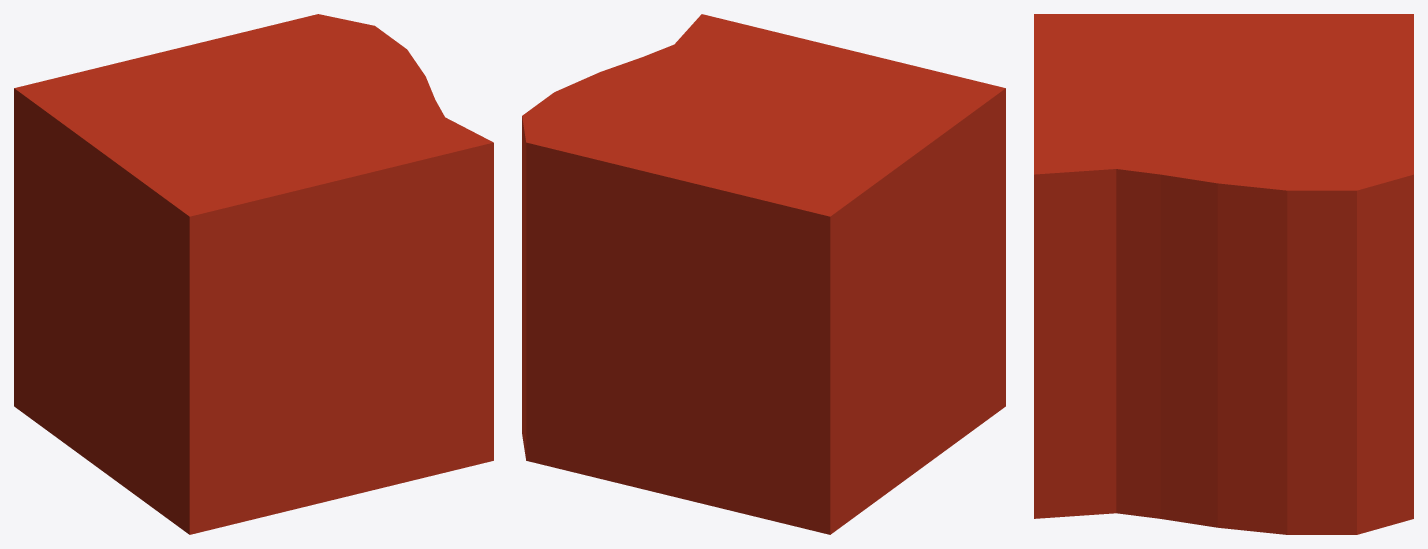
The model's file is rock_side_1.glb.
3 renders of one model, left to right at view 1: azimuth 30°, elevation 25°; view 2: azimuth 150°, elevation 25°; view 3: azimuth 270°, elevation 25°, orthographic. The views are drawn at different scales.
Parts seen in each view (by area): view 1: rock_side_1; view 2: rock_side_1; view 3: rock_side_1.
Boxes of the visible parts, x1,y1,x2,y2 form: rock_side_1: [14, 14, 493, 534]; rock_side_1: [522, 14, 1005, 534]; rock_side_1: [1034, 14, 1413, 534].
Size of the model in its own units: 2.2 by 2 by 2.
